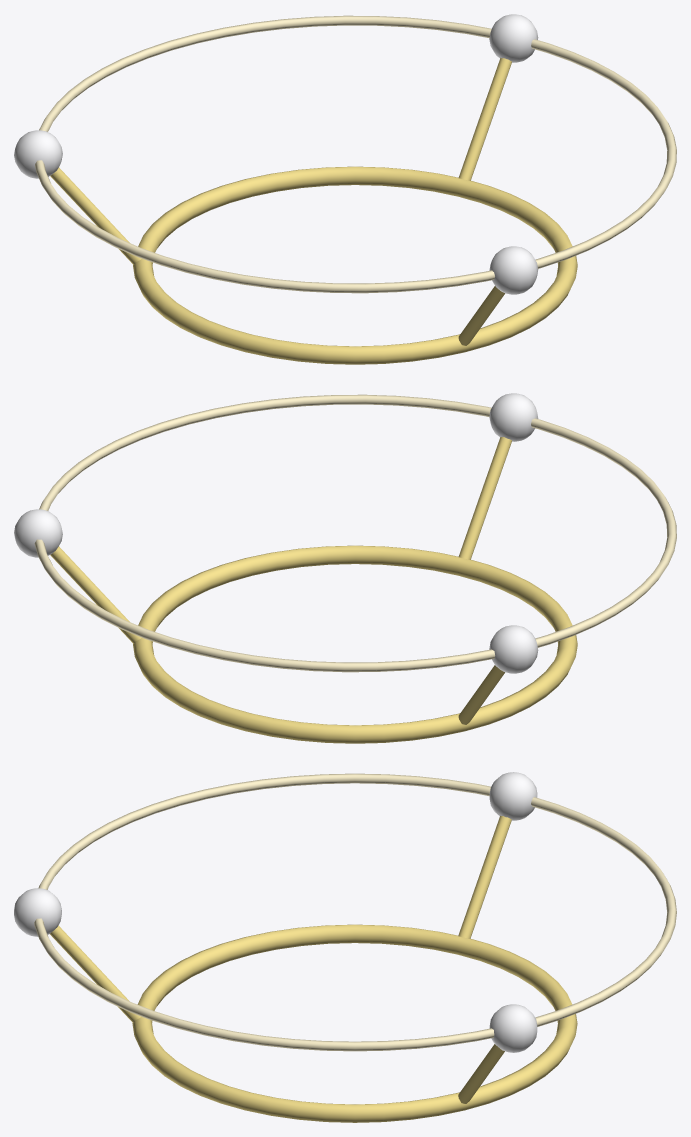
Rendered from orbit-crown-meetup-3.glb.
3 renders of one model, top to bottom at view 1: azimuth 30°, elevation 25°; view 2: azimuth 150°, elevation 25°; view 3: azimuth 270°, elevation 25°, orthographic.
Visible parts, largest first — view 1: circlet, orbit, pearls, stems; view 2: circlet, orbit, pearls, stems; view 3: circlet, orbit, pearls, stems.
Boxes of the visible parts, box(x1,y1,x2,y2) form: circlet: box(133, 166, 577, 364); orbit: box(35, 15, 676, 293); pearls: box(14, 14, 538, 294); stems: box(50, 57, 511, 345); circlet: box(133, 545, 577, 743); orbit: box(34, 394, 676, 672); pearls: box(14, 393, 538, 673); stems: box(50, 437, 511, 724); circlet: box(132, 924, 577, 1122); orbit: box(34, 773, 676, 1051); pearls: box(14, 772, 537, 1052); stems: box(50, 815, 511, 1103).
Bounding box in the file's own units: 0.3148 × 0.0768 × 0.3241.
